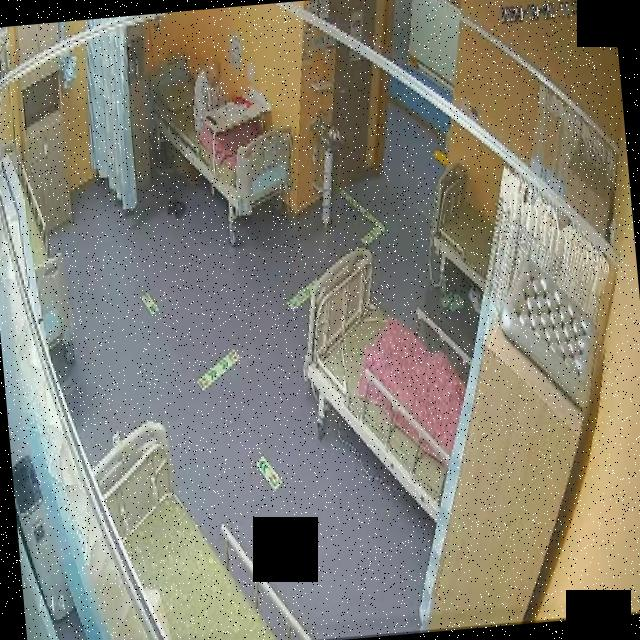bed: (296, 241, 476, 529), (87, 412, 311, 640), (140, 44, 300, 224), (426, 160, 500, 296)
patient: (188, 62, 232, 134)
sit: (188, 58, 230, 128)
